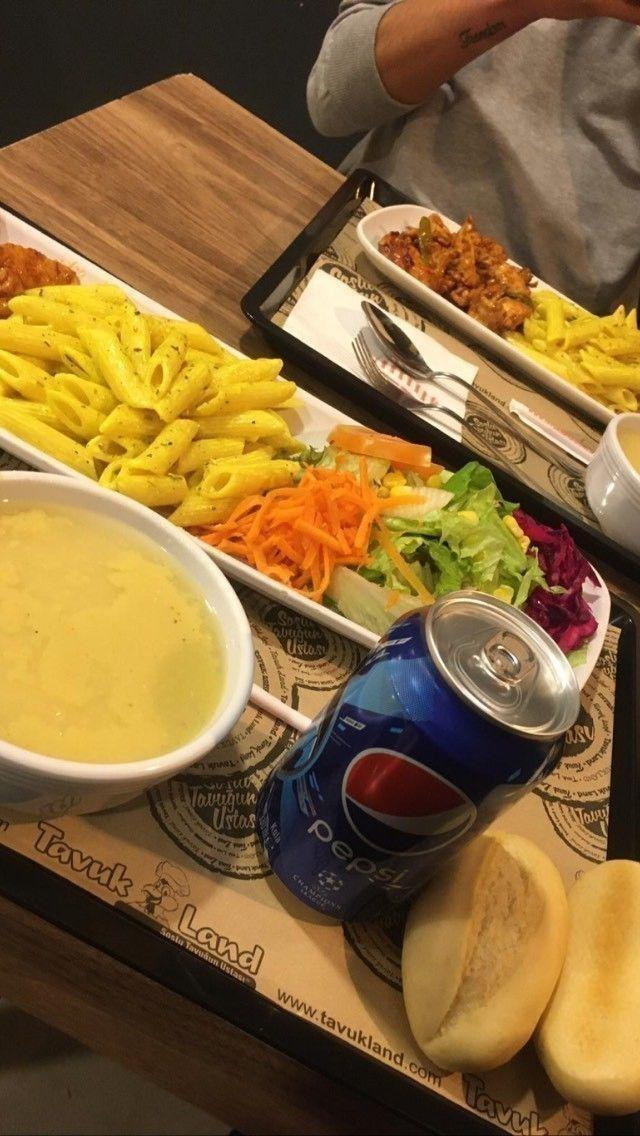tin can: (254, 588, 581, 925)
